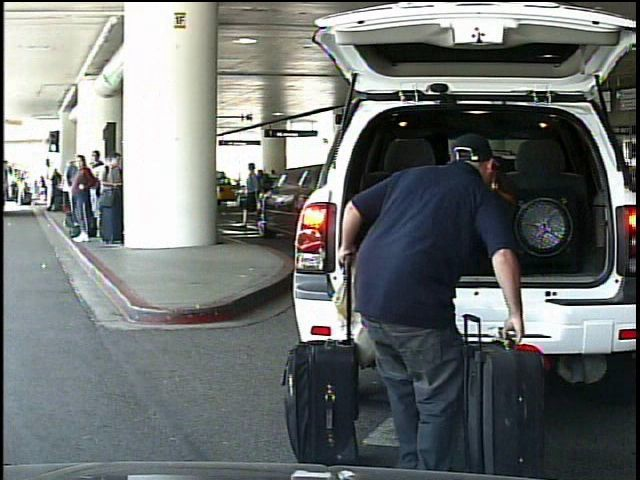person: (325, 115, 556, 480), (245, 161, 267, 230), (18, 176, 28, 207), (39, 174, 50, 202)
